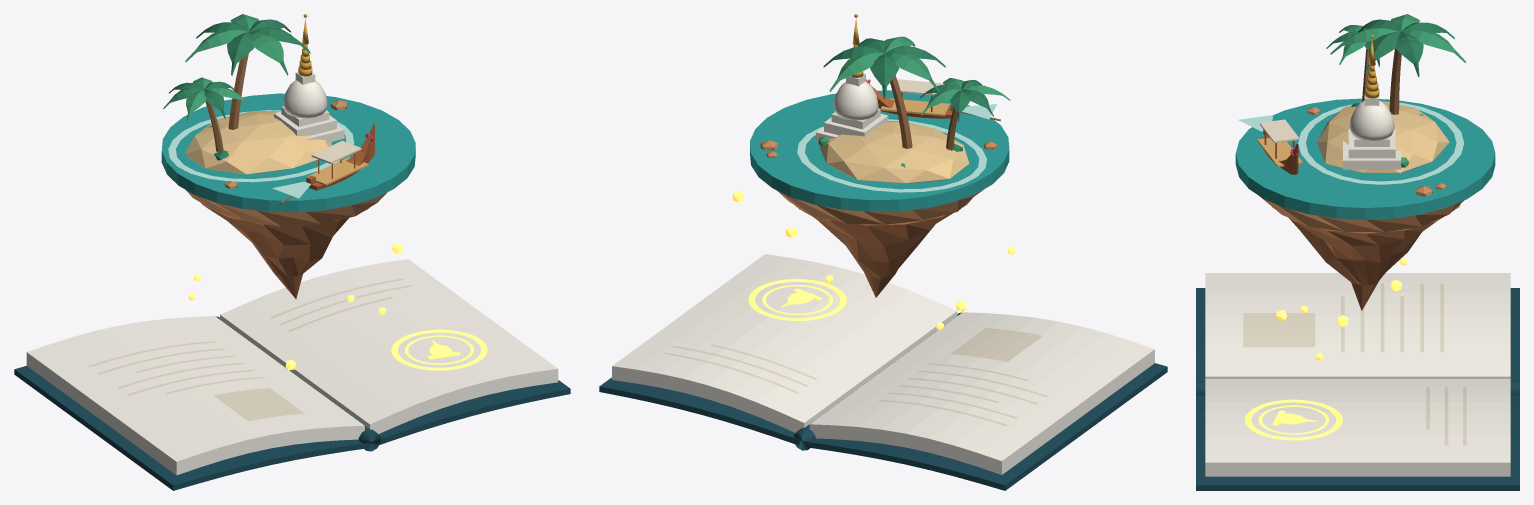
Rendered from hero.glb.
The picture shows the model from 3 angles, left to right: view 1: azimuth 30°, elevation 25°; view 2: azimuth 150°, elevation 25°; view 3: azimuth 270°, elevation 25°; orthographic projection. The views are drawn at different scales.
Visible parts, largest first — view 1: PagesR, PagesL, Sea, CoverL, SandMound, RockBottom, CoverR, RockTop, PhotoBox, ChediBell, Foam, StampRingOuter (+7 smaller); view 2: PagesR, PagesL, Sea, SandMound, CoverL, RockBottom, CoverR, RockTop, PhotoBox, Foam, ChediBell, StampRingOuter (+6 smaller); view 3: PagesR, PagesL, Sea, CoverR, RockBottom, SandMound, PhotoBox, RockTop, CoverL, Foam, ChediBell, StampRingOuter (+12 smaller).
Boxes of the visible parts, left/top/right/bottom form: PagesR: left=220, top=259, right=558, bottom=433; PagesL: left=26, top=316, right=364, bottom=475; Sea: left=161, top=93, right=415, bottom=212; CoverL: left=14, top=365, right=369, bottom=490; SandMound: left=185, top=111, right=331, bottom=174; RockBottom: left=201, top=203, right=368, bottom=299; CoverR: left=378, top=380, right=570, bottom=444; RockTop: left=186, top=190, right=387, bottom=227; PhotoBox: left=213, top=388, right=304, bottom=421; ChediBell: left=283, top=80, right=327, bottom=118; Foam: left=168, top=110, right=353, bottom=182; StampRingOuter: left=391, top=329, right=487, bottom=370; PagesR: left=612, top=254, right=957, bottom=432; PagesL: left=809, top=312, right=1154, bottom=474; Sea: left=750, top=90, right=1009, bottom=211; SandMound: left=819, top=121, right=969, bottom=183; CoverL: left=805, top=363, right=1167, bottom=490; RockBottom: left=794, top=199, right=971, bottom=297; CoverR: left=599, top=377, right=799, bottom=445; RockTop: left=777, top=189, right=983, bottom=224; PhotoBox: left=950, top=328, right=1042, bottom=361; Foam: left=797, top=119, right=986, bottom=192; ChediBell: left=833, top=81, right=878, bottom=120; StampRingOuter: left=748, top=279, right=846, bottom=320; PagesR: left=1205, top=379, right=1510, bottom=476; PagesL: left=1205, top=273, right=1510, bottom=378; Sea: left=1235, top=98, right=1495, bottom=219; CoverR: left=1196, top=395, right=1519, bottom=490; RockBottom: left=1272, top=204, right=1460, bottom=310; SandMound: left=1317, top=101, right=1449, bottom=172; PhotoBox: left=1243, top=313, right=1315, bottom=347; RockTop: left=1259, top=196, right=1463, bottom=232; CoverL: left=1196, top=288, right=1519, bottom=381; Foam: left=1298, top=101, right=1464, bottom=184; ChediBell: left=1349, top=100, right=1394, bottom=140; StampRingOuter: left=1244, top=399, right=1342, bottom=440.
Size of the model in its own units: 3.06 by 2.72 by 2.12.
